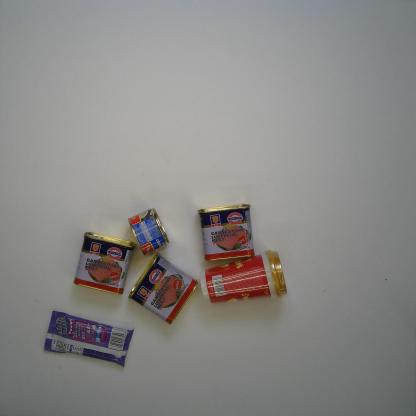Candy: (40, 310, 135, 368)
Canned Food: (127, 252, 201, 326), (71, 230, 135, 296), (197, 200, 256, 264), (125, 206, 172, 258)
Instant Drink: (197, 248, 289, 307)
